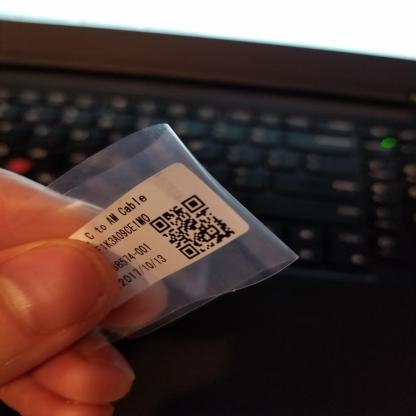qr: (148, 193, 237, 264)
